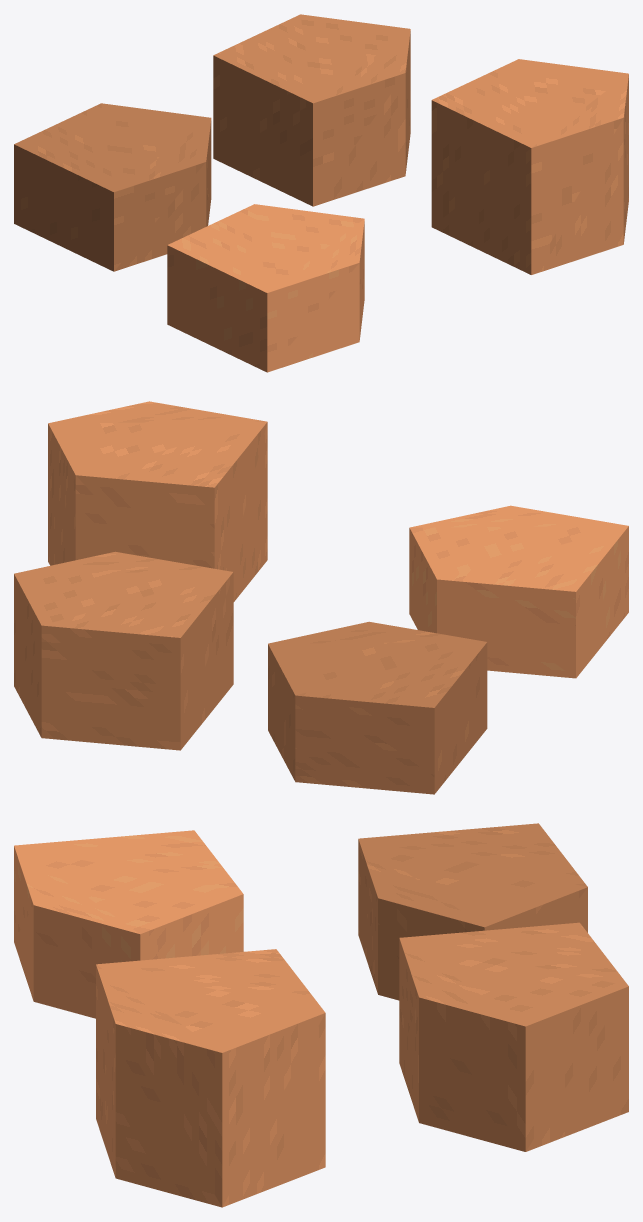
The model's file is melon_chunks.glb.
3 renders of one model, top to bottom at view 1: azimuth 30°, elevation 25°; view 2: azimuth 150°, elevation 25°; view 3: azimuth 270°, elevation 25°, orthographic. The views are drawn at different scales.
Parts seen in each view (by area): view 1: block_irregular fruit chunk (×4); view 2: block_irregular fruit chunk (×4); view 3: block_irregular fruit chunk (×4).
Part boxes in pixels (x1,y1,x2,y2): block_irregular fruit chunk (×4): (14,14,628,372); block_irregular fruit chunk (×4): (14,401,628,794); block_irregular fruit chunk (×4): (14,823,628,1207).
Size of the model in its own units: 0.114 by 0.0286 by 0.103.
1 material, 1 textured.
